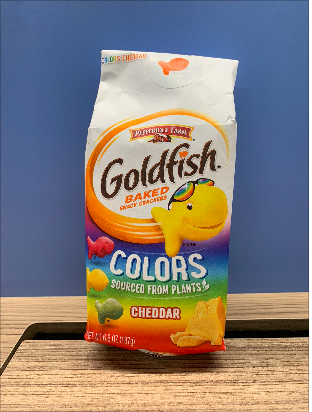Crackers_100-199g: (95, 81, 217, 333)
